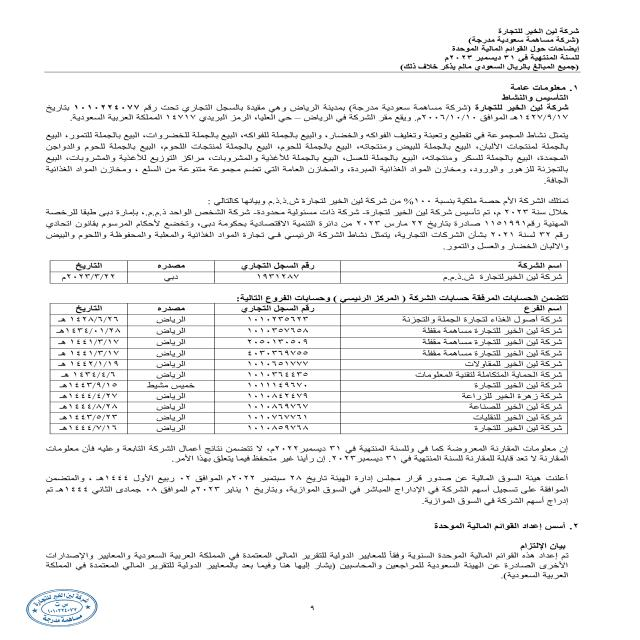notes: (434, 44, 588, 52)
table: (38, 292, 574, 445), (38, 262, 576, 290)
